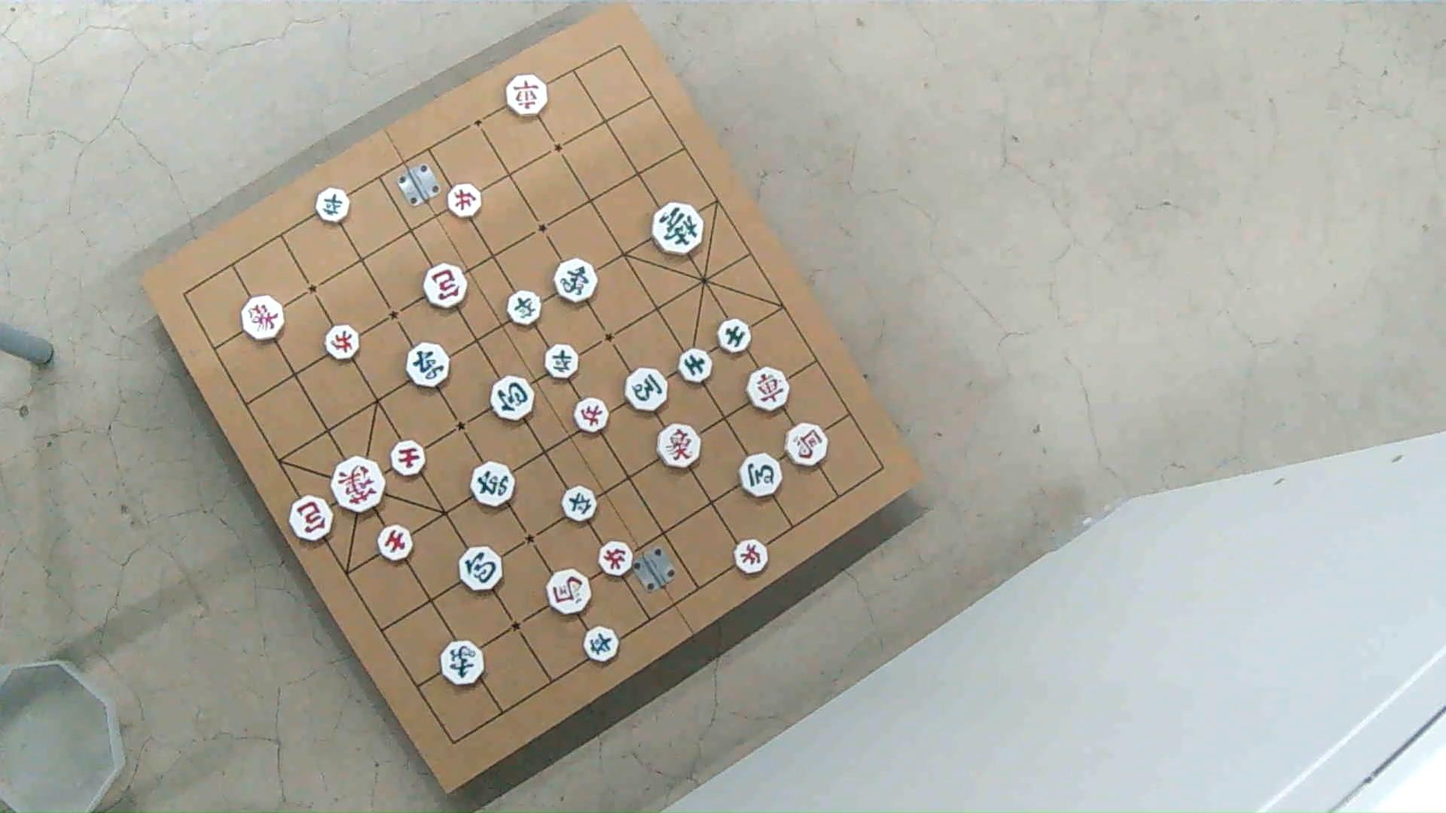cha_green: (471, 461, 514, 507), (407, 342, 450, 385)
cha_red: (746, 367, 789, 410), (503, 75, 546, 117)
jol_green: (562, 487, 598, 522), (544, 344, 578, 379), (587, 626, 621, 661), (510, 292, 544, 325), (316, 190, 349, 224)
jol_red: (324, 326, 359, 361), (577, 398, 612, 432), (599, 540, 633, 575), (734, 538, 767, 574), (448, 184, 482, 218)
ma_green: (743, 452, 786, 496), (625, 367, 667, 411)
ma_red: (548, 568, 590, 612), (786, 425, 828, 467)
po_green: (490, 377, 534, 421), (459, 547, 502, 592)
po_red: (426, 264, 469, 309), (291, 498, 334, 542)
sa_green: (718, 320, 751, 355), (679, 349, 710, 382)
sa_red: (377, 525, 413, 561), (392, 440, 426, 477)
sang_green: (442, 642, 485, 687), (553, 258, 596, 303)
sang_red: (657, 425, 700, 470), (242, 295, 283, 339)
wang_green: (654, 203, 706, 256)
wang_red: (332, 457, 384, 512)
